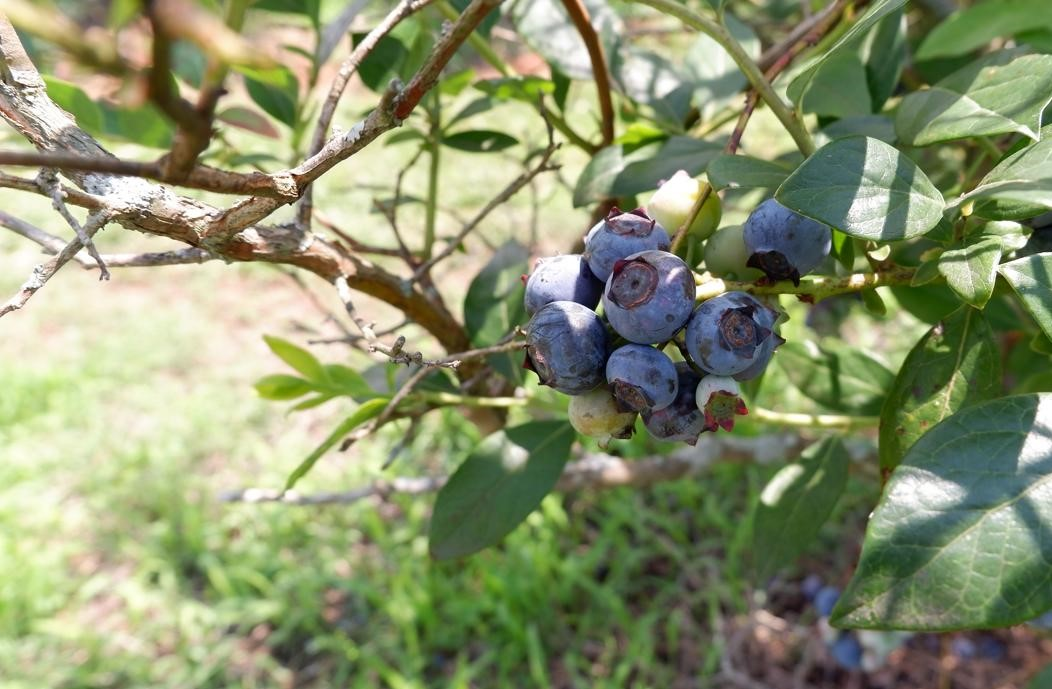Immature: (603, 250, 696, 343), (645, 168, 723, 246), (567, 382, 638, 450), (703, 224, 766, 283), (695, 375, 750, 432)
Mature: (522, 300, 614, 396), (742, 198, 833, 288), (684, 296, 772, 375), (584, 206, 672, 282), (716, 291, 786, 382), (643, 361, 711, 447), (521, 254, 606, 318), (607, 344, 678, 417)
